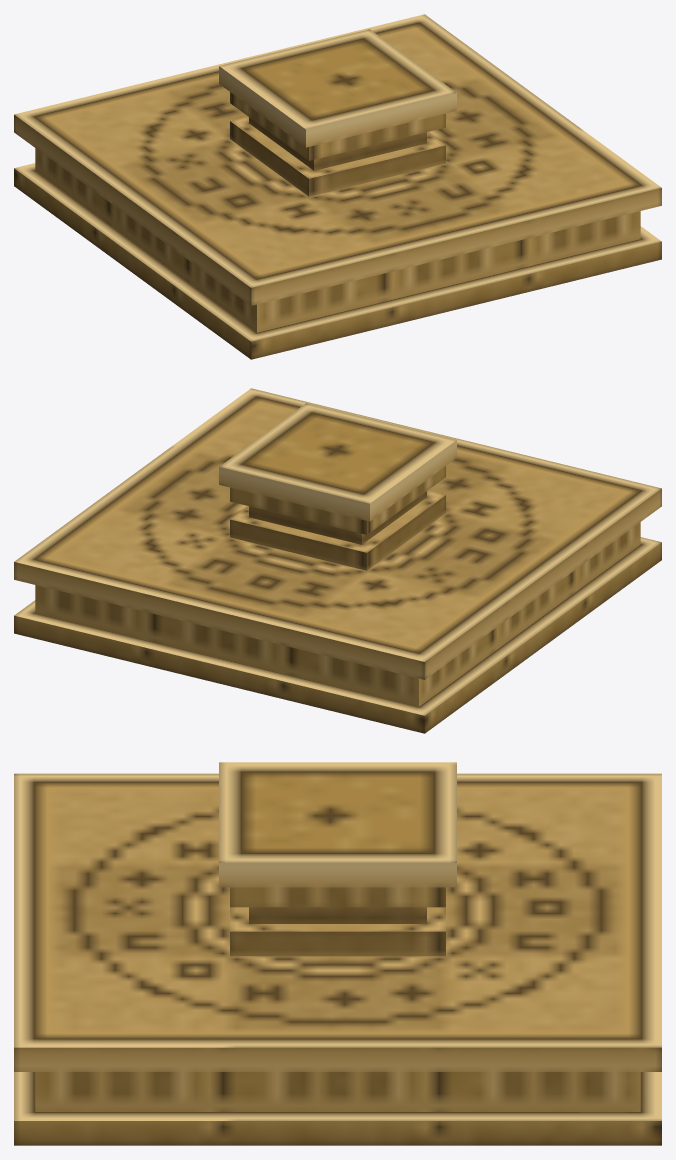
Rendered from terrace.obj.
3 renders of one model, top to bottom at view 1: azimuth 30°, elevation 25°; view 2: azimuth 150°, elevation 25°; view 3: azimuth 270°, elevation 25°, orthographic. The views are drawn at different scales.
Visible parts, largest first — view 1: terrace; view 2: terrace; view 3: terrace.
Boxes of the visible parts, x1=… form: terrace: x1=14, y1=14, x2=661, y2=359; terrace: x1=14, y1=388, x2=661, y2=733; terrace: x1=14, y1=762, x2=661, y2=1145.
Size of the model in its own units: 3 by 1 by 3.
